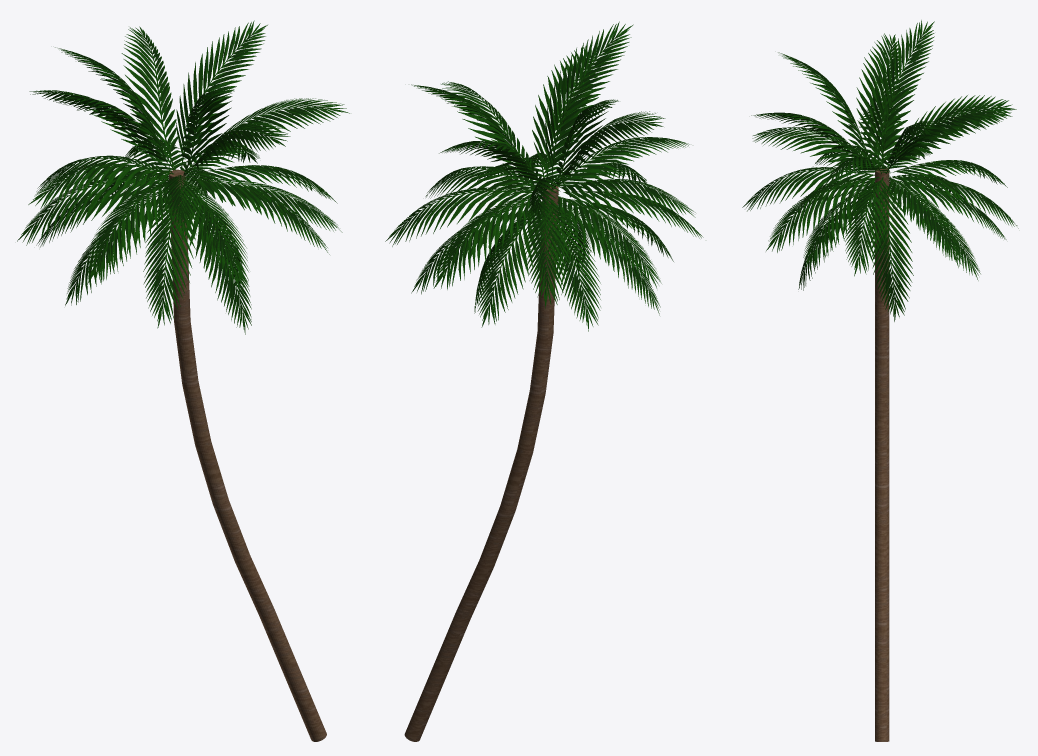
Rendered from SM_tree_new2.glb.
The picture shows the model from 3 angles, left to right: view 1: azimuth 30°, elevation 25°; view 2: azimuth 150°, elevation 25°; view 3: azimuth 270°, elevation 25°; orthographic projection. The views are drawn at different scales.
Parts seen in each view (by area): view 1: SM_tree_new2; view 2: SM_tree_new2; view 3: SM_tree_new2.
Boxes of the visible parts, bbox=[...] form: SM_tree_new2: bbox=[17, 20, 349, 741]; SM_tree_new2: bbox=[385, 21, 703, 741]; SM_tree_new2: bbox=[742, 20, 1018, 741].
Bounding box in the file's own units: 8.89 × 20.55 × 8.41.
2 materials, 2 textured.
